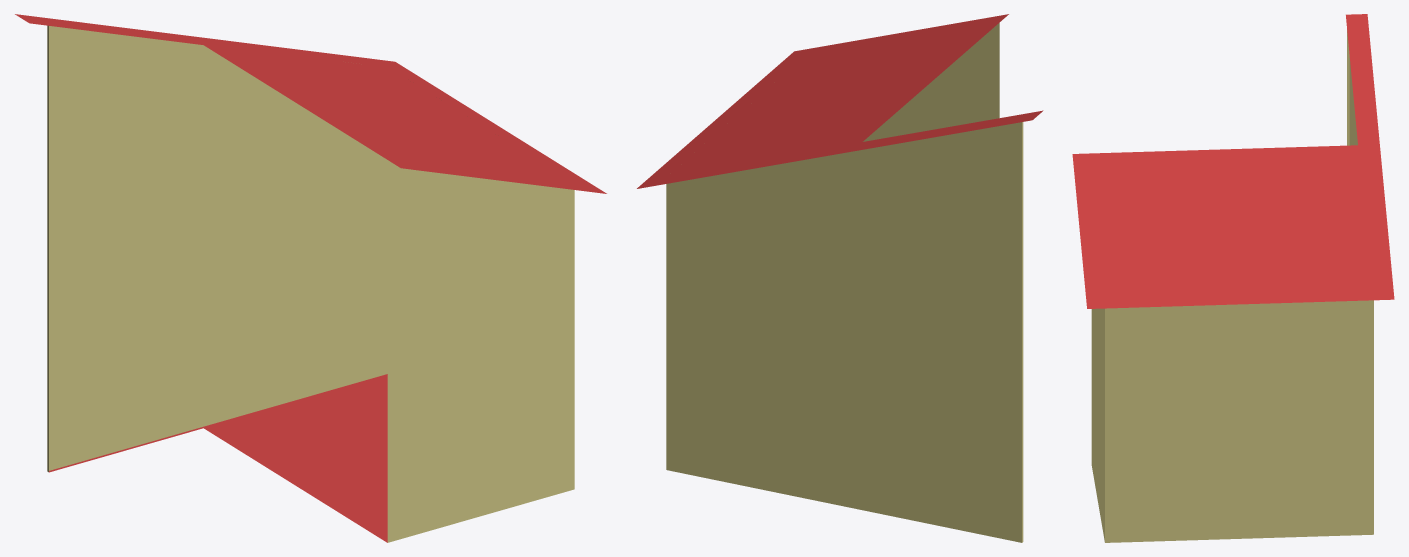
The picture shows the model from 3 angles, left to right: view 1: azimuth 30°, elevation 25°; view 2: azimuth 150°, elevation 25°; view 3: azimuth 270°, elevation 25°; orthographic projection. The views are drawn at different scales.
Size of the model in its own units: 10.26 by 8.34 by 10.59.
